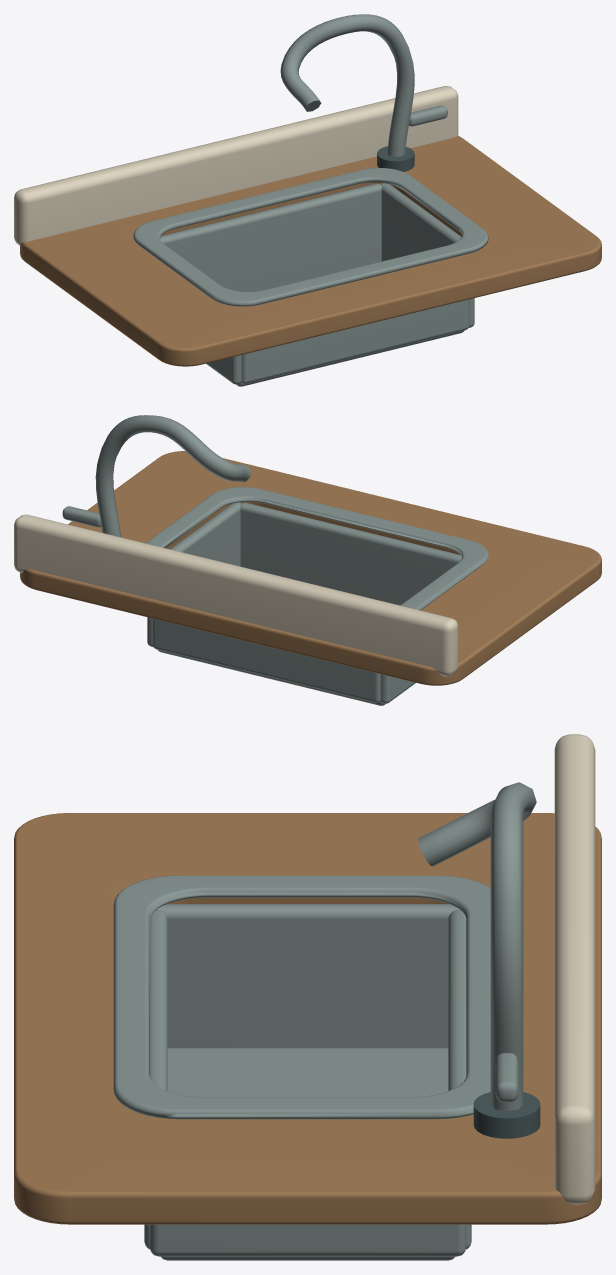
File: kitchen-sink-top-100.glb
The picture shows the model from 3 angles, top to bottom: view 1: azimuth 30°, elevation 25°; view 2: azimuth 150°, elevation 25°; view 3: azimuth 270°, elevation 25°; orthographic projection. The views are drawn at different scales.
Visible parts, largest first — view 1: kitchen-sink-top-100 / 21 / honey ash timber, kitchen-sink-top-100 / 05 • brushed titanium, kitchen-sink-top-100 / 01 • warm porcelain paint, kitchen-sink-top-100 / 06 • dark anodized frame; view 2: kitchen-sink-top-100 / 05 • brushed titanium, kitchen-sink-top-100 / 21 / honey ash timber, kitchen-sink-top-100 / 01 • warm porcelain paint; view 3: kitchen-sink-top-100 / 21 / honey ash timber, kitchen-sink-top-100 / 05 • brushed titanium, kitchen-sink-top-100 / 01 • warm porcelain paint, kitchen-sink-top-100 / 06 • dark anodized frame.
Part boxes in pixels (box(x1,y1,x2,y2)): kitchen-sink-top-100 / 21 / honey ash timber: box(20, 136, 601, 366); kitchen-sink-top-100 / 05 • brushed titanium: box(133, 14, 488, 386); kitchen-sink-top-100 / 01 • warm porcelain paint: box(14, 86, 458, 245); kitchen-sink-top-100 / 06 • dark anodized frame: box(377, 146, 414, 171); kitchen-sink-top-100 / 05 • brushed titanium: box(62, 415, 488, 705); kitchen-sink-top-100 / 21 / honey ash timber: box(20, 451, 601, 685); kitchen-sink-top-100 / 01 • warm porcelain paint: box(14, 514, 458, 676); kitchen-sink-top-100 / 21 / honey ash timber: box(14, 813, 601, 1224); kitchen-sink-top-100 / 05 • brushed titanium: box(113, 782, 536, 1260); kitchen-sink-top-100 / 01 • warm porcelain paint: box(554, 734, 595, 1204); kitchen-sink-top-100 / 06 • dark anodized frame: box(473, 1092, 540, 1138).
Bounding box in the file's own units: 1 × 0.5457 × 0.65.
